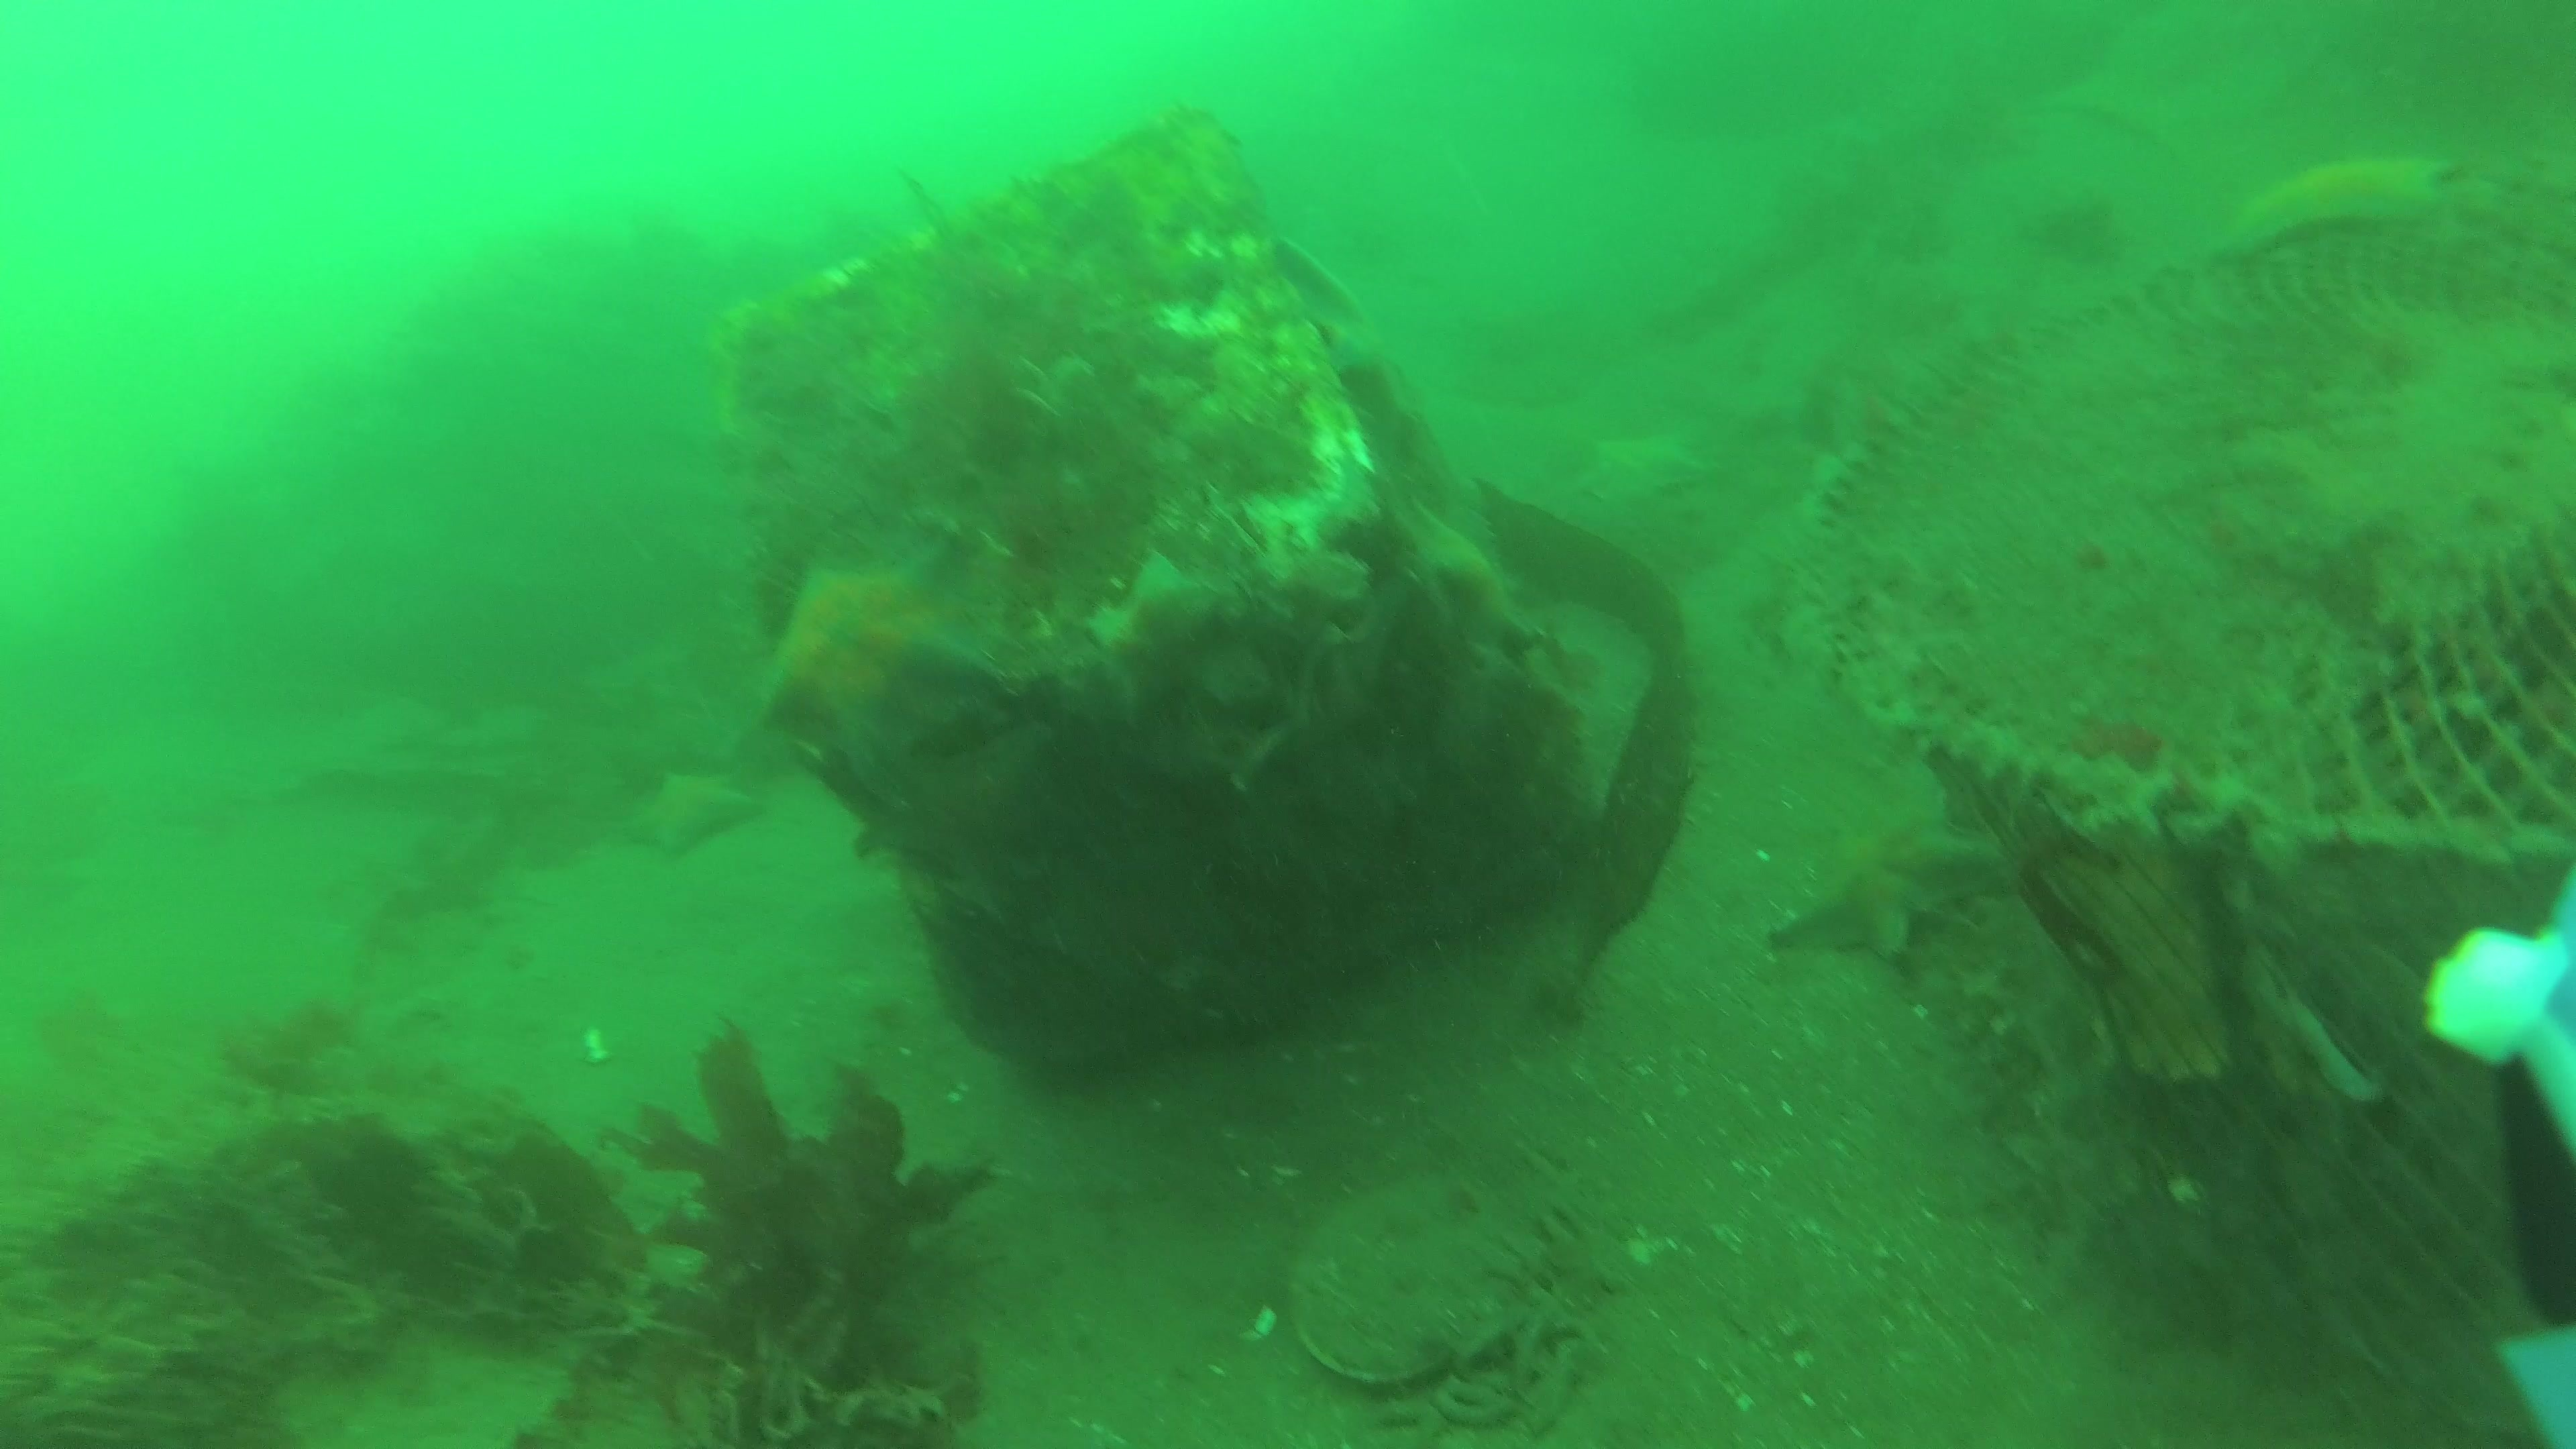scallop: (1288, 1192, 1520, 1382)
starfish: (757, 556, 994, 786), (1771, 764, 2003, 968), (1276, 228, 1424, 433), (2224, 152, 2447, 257), (1407, 492, 1530, 658), (628, 770, 755, 858), (1580, 426, 1702, 517)
